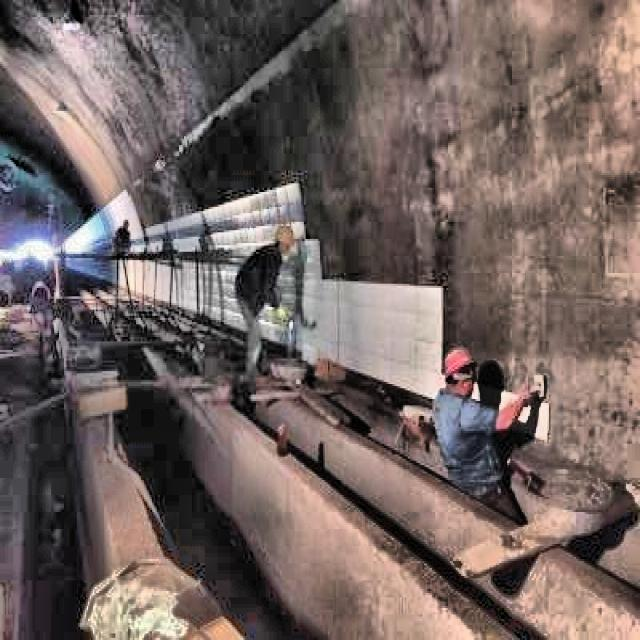helmet: (442, 343, 476, 397), (274, 220, 294, 254)
